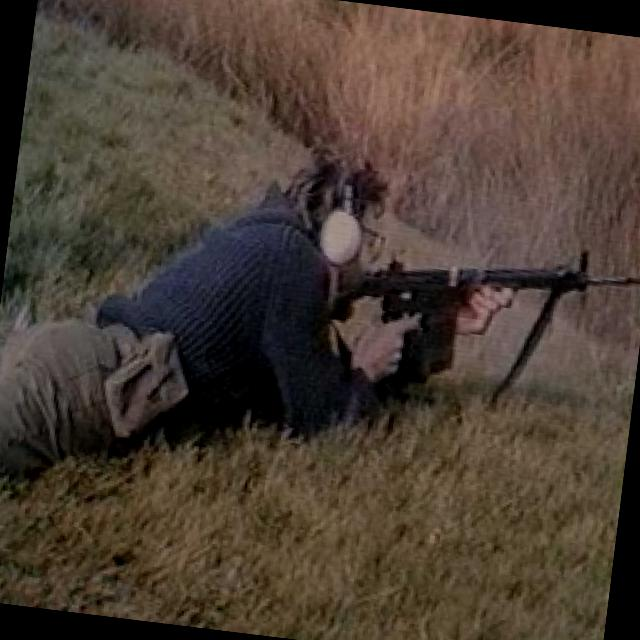long weapon: (356, 221, 639, 428)
